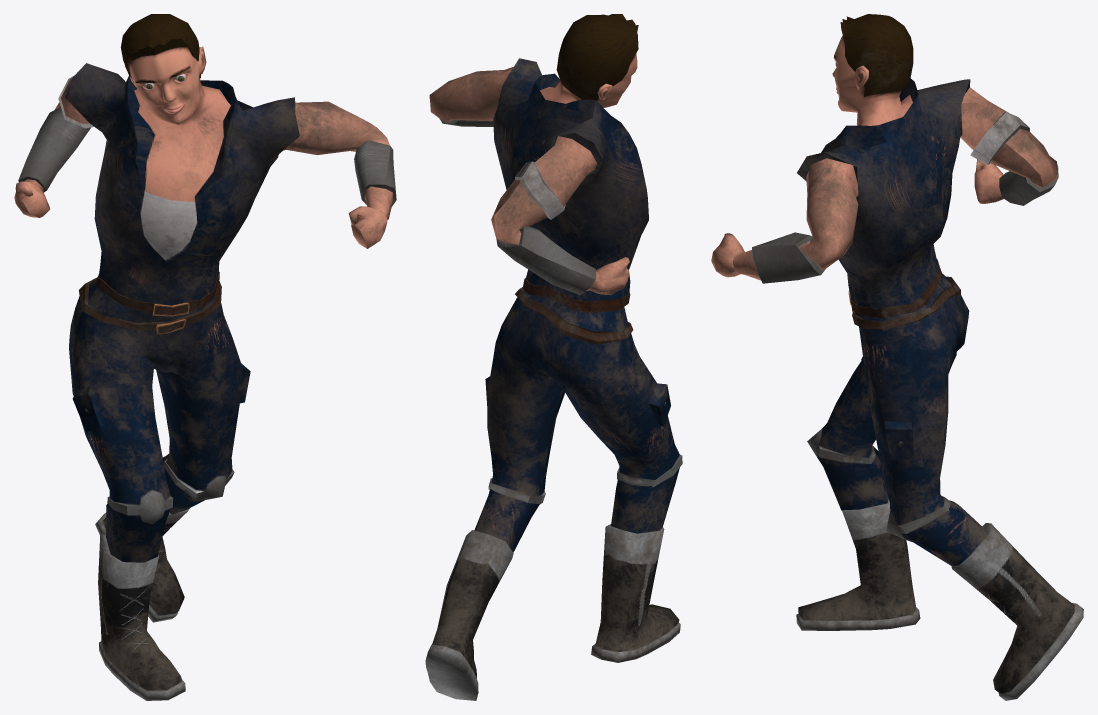
The model's file is Anim_ataque_d3_jugador.0037.obj.
3 renders of one model, left to right at view 1: azimuth 30°, elevation 25°; view 2: azimuth 150°, elevation 25°; view 3: azimuth 270°, elevation 25°, orthographic. The views are drawn at different scales.
Parts seen in each view (by area): view 1: polySurface1; view 2: polySurface1; view 3: polySurface1.
Boxes of the visible parts, x1,y1,x2,y2 form: polySurface1: (14, 14, 396, 700); polySurface1: (425, 14, 682, 700); polySurface1: (711, 14, 1083, 700).
Size of the model in its own units: 4.22 by 9.47 by 4.95.
